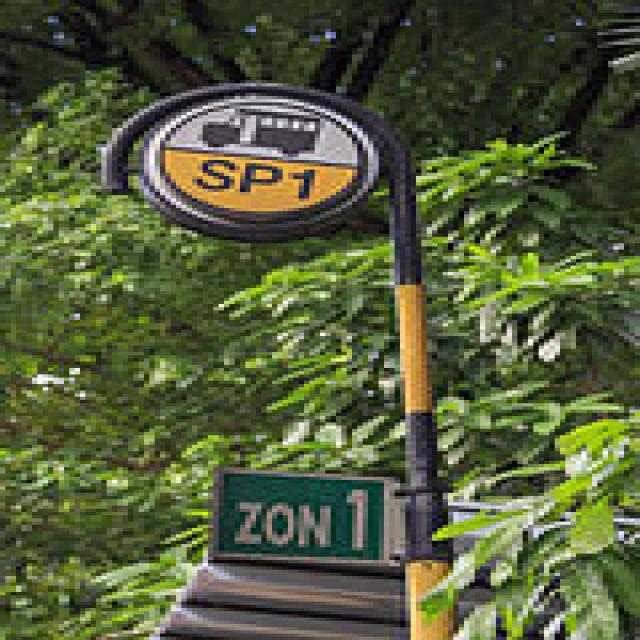Traffic sign: (61, 44, 421, 250)
